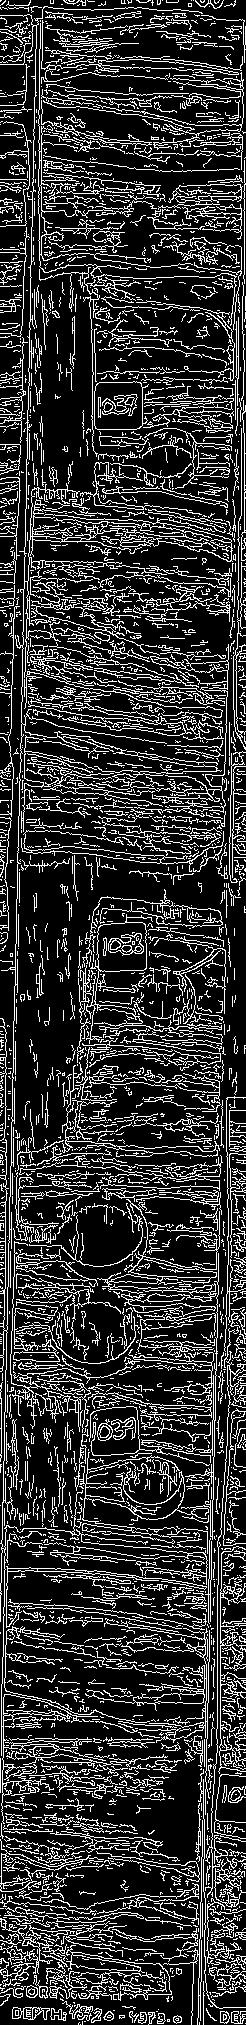hplug: (115, 1448, 190, 1523), (129, 960, 198, 1036), (133, 425, 202, 496)
scal: (50, 1180, 151, 1284), (48, 1284, 148, 1375)
vplug: (13, 898, 113, 1153), (34, 238, 107, 509), (6, 1381, 88, 1557)
